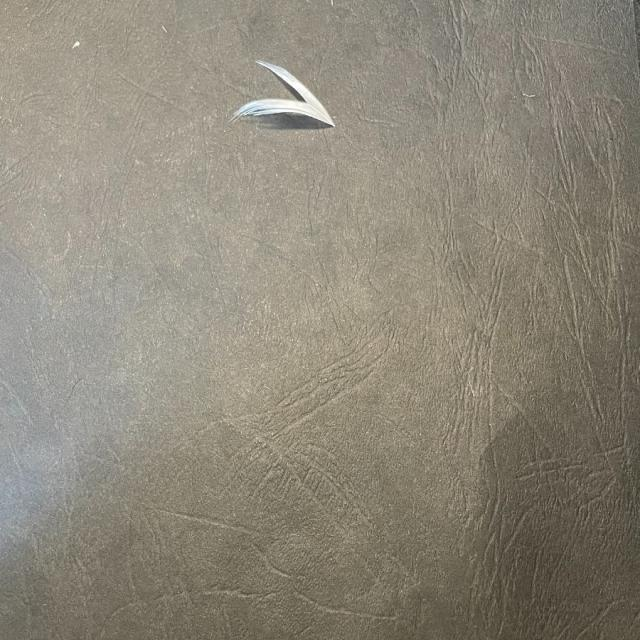feather: (231, 54, 336, 131)
